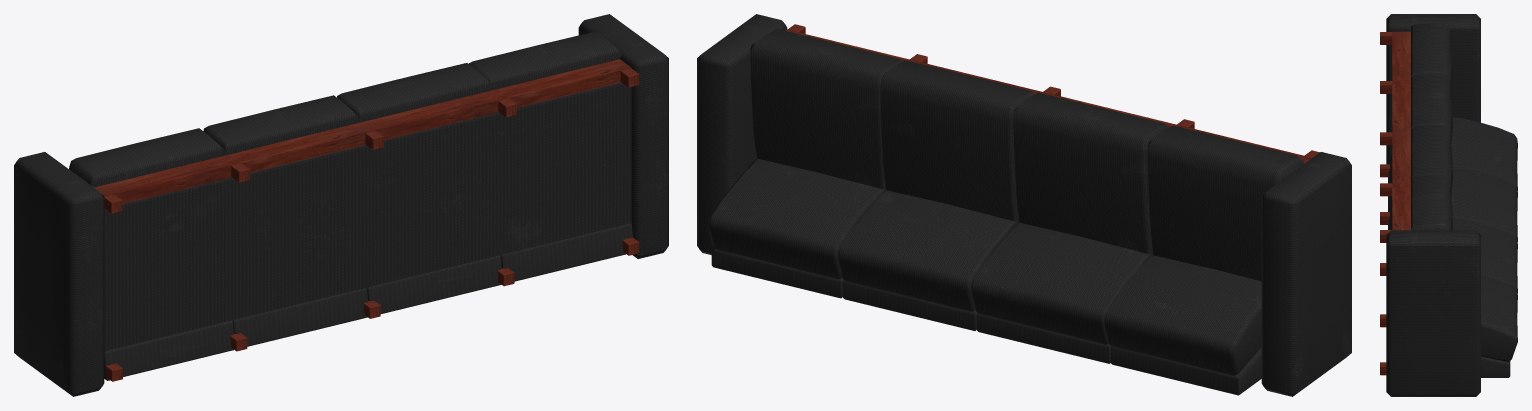
File: mH_FourSeatCouch.fbx
3 views of the same model, side by side, from view 1: azimuth 30°, elevation 25°; view 2: azimuth 150°, elevation 25°; view 3: azimuth 270°, elevation 25° (orthographic). The views are drawn at different scales.
Parts seen in each view (by area): view 1: mH_FourSeatCouch; view 2: mH_FourSeatCouch; view 3: mH_FourSeatCouch.
Part boxes in pixels (x1,y1,x2,y2): mH_FourSeatCouch: (14, 14, 668, 396); mH_FourSeatCouch: (697, 14, 1351, 396); mH_FourSeatCouch: (1380, 14, 1517, 396).
Bounding box in the file's own units: 446 × 147 × 113.
